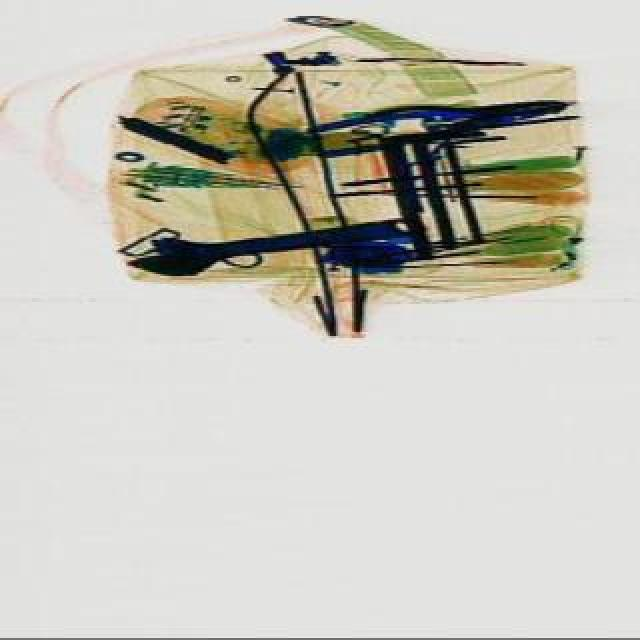scissors: (118, 202, 426, 284)
wrench: (366, 84, 568, 148)
